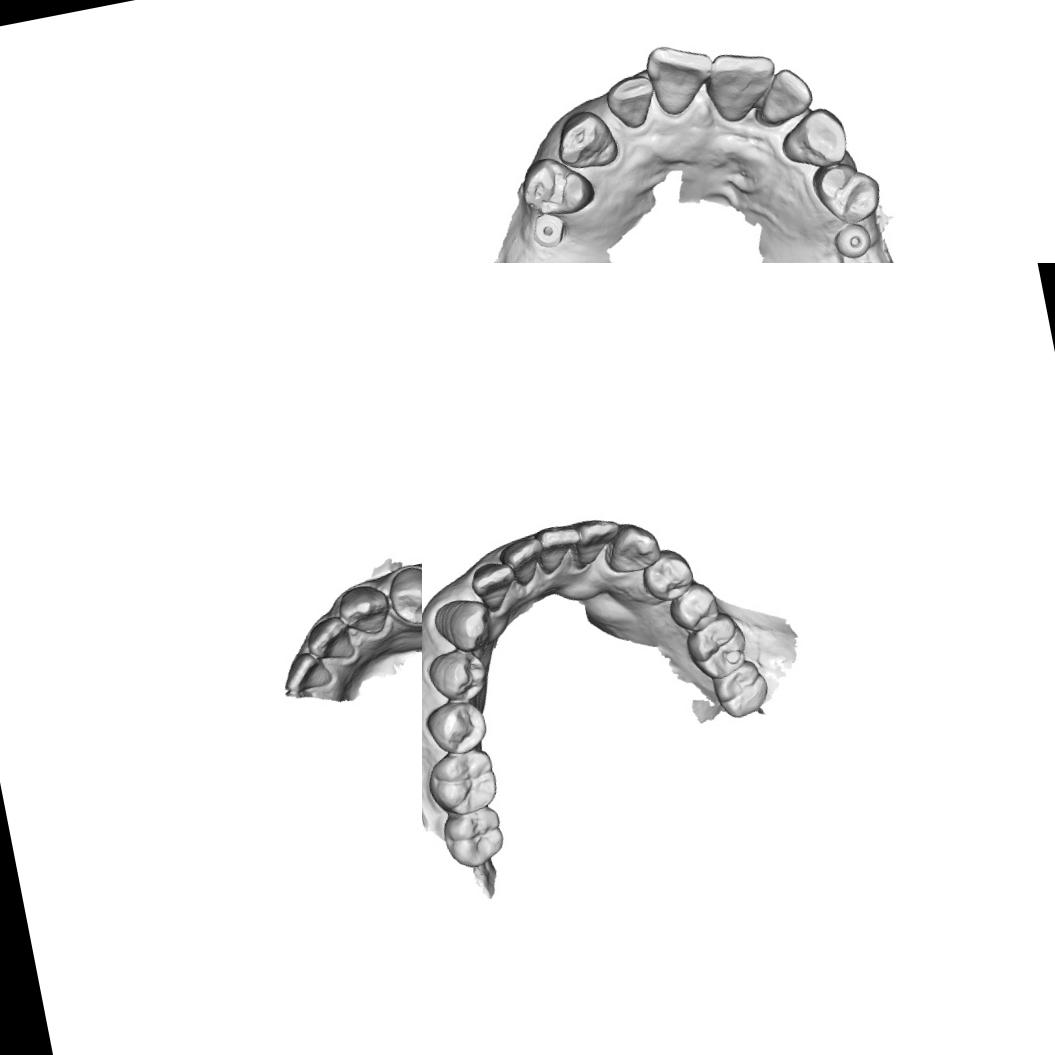canine: (780, 104, 852, 172), (552, 108, 622, 176), (430, 593, 496, 657), (334, 579, 396, 641), (601, 518, 664, 576)
implant: (830, 218, 876, 262), (524, 209, 566, 250)
incisor: (701, 44, 784, 124), (642, 37, 718, 119), (751, 64, 814, 128), (603, 71, 660, 131), (532, 518, 587, 580), (569, 512, 625, 572), (300, 612, 357, 666), (277, 644, 335, 696), (466, 557, 518, 613), (497, 531, 548, 588)
molar: (422, 744, 502, 819), (681, 608, 754, 685), (438, 802, 509, 873), (706, 656, 774, 723)
premolar: (805, 147, 890, 228), (517, 150, 597, 223), (422, 644, 492, 707), (422, 695, 490, 759), (638, 543, 698, 604), (664, 578, 723, 635), (382, 557, 422, 631)
